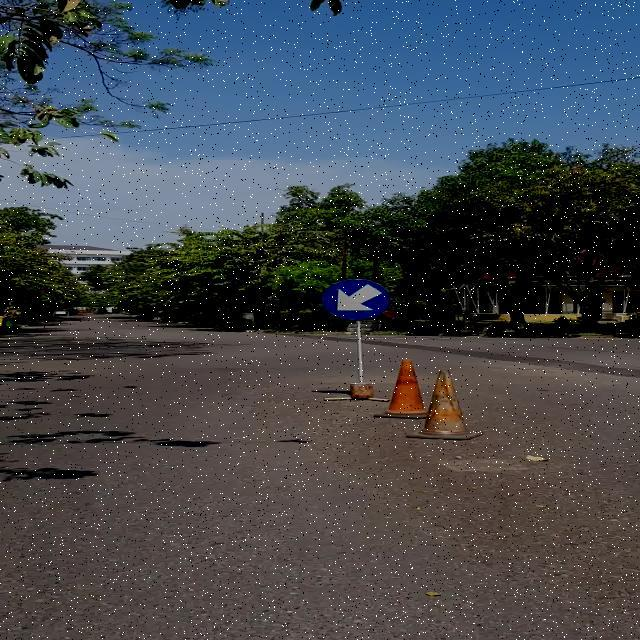Lajur Kiri: (322, 279, 388, 320)
